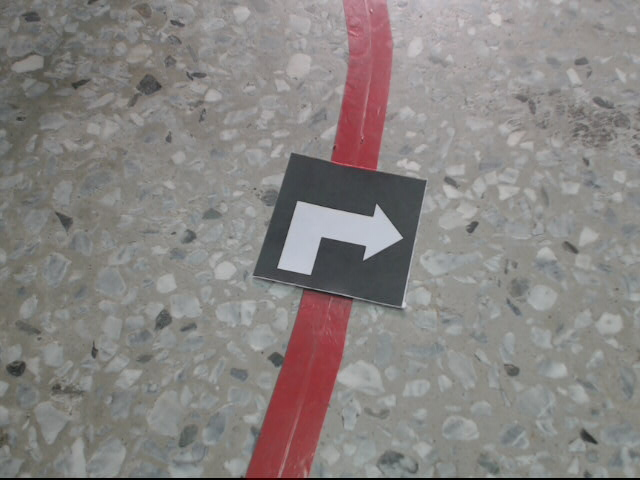right: (254, 153, 430, 309)
